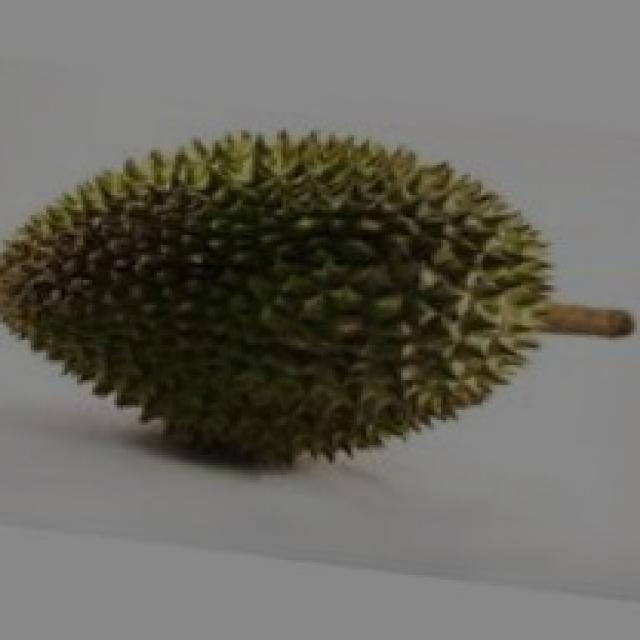fruit: (0, 88, 369, 500), (246, 95, 606, 510)
